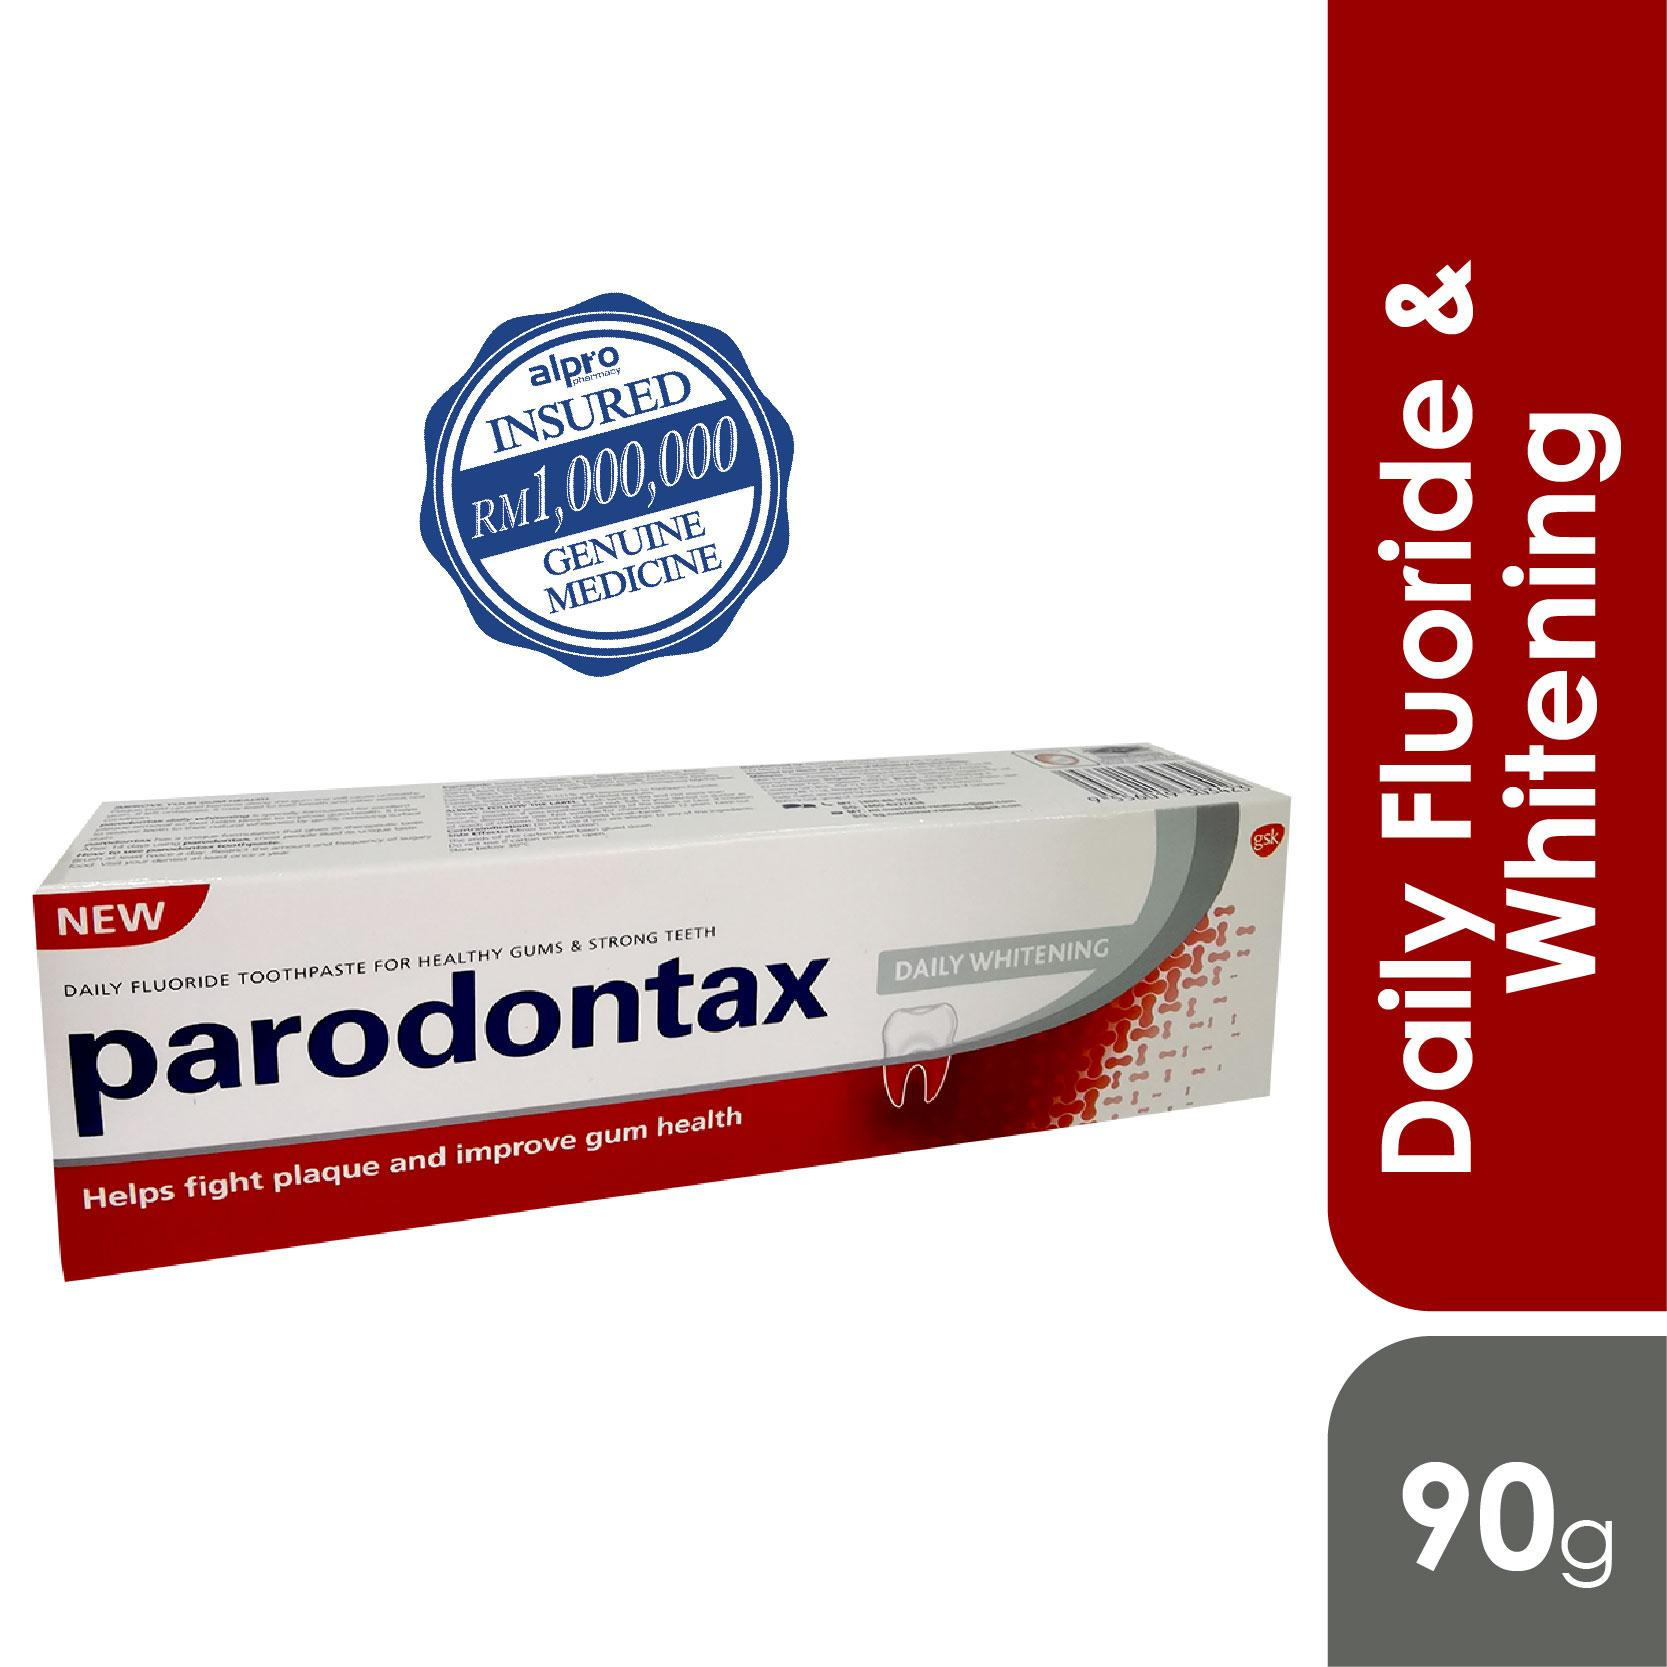toothpaste: (27, 701, 1305, 1314)
